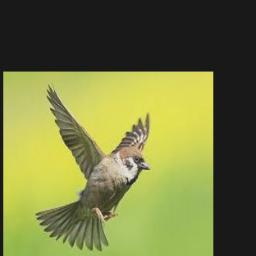Sparrow: (35, 82, 150, 251)
